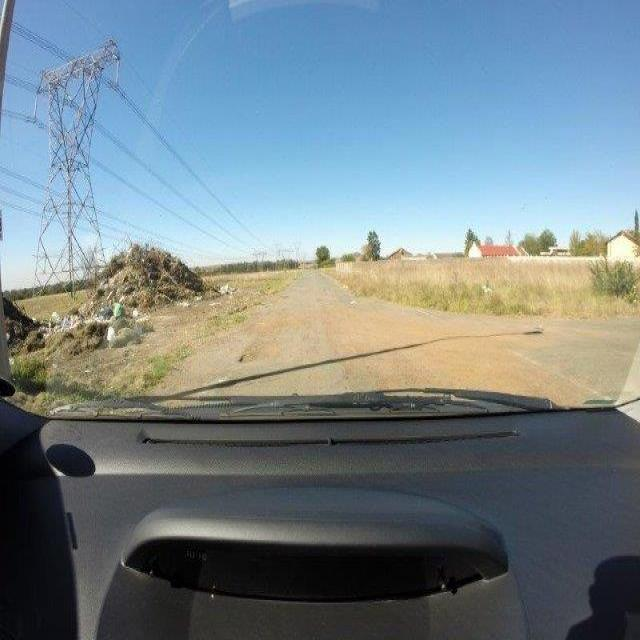lubang: (233, 313, 291, 368)
